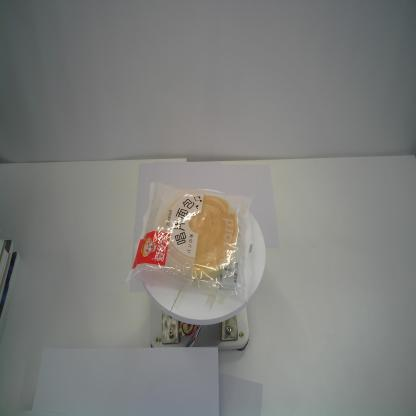Dessert: (124, 181, 254, 304)
